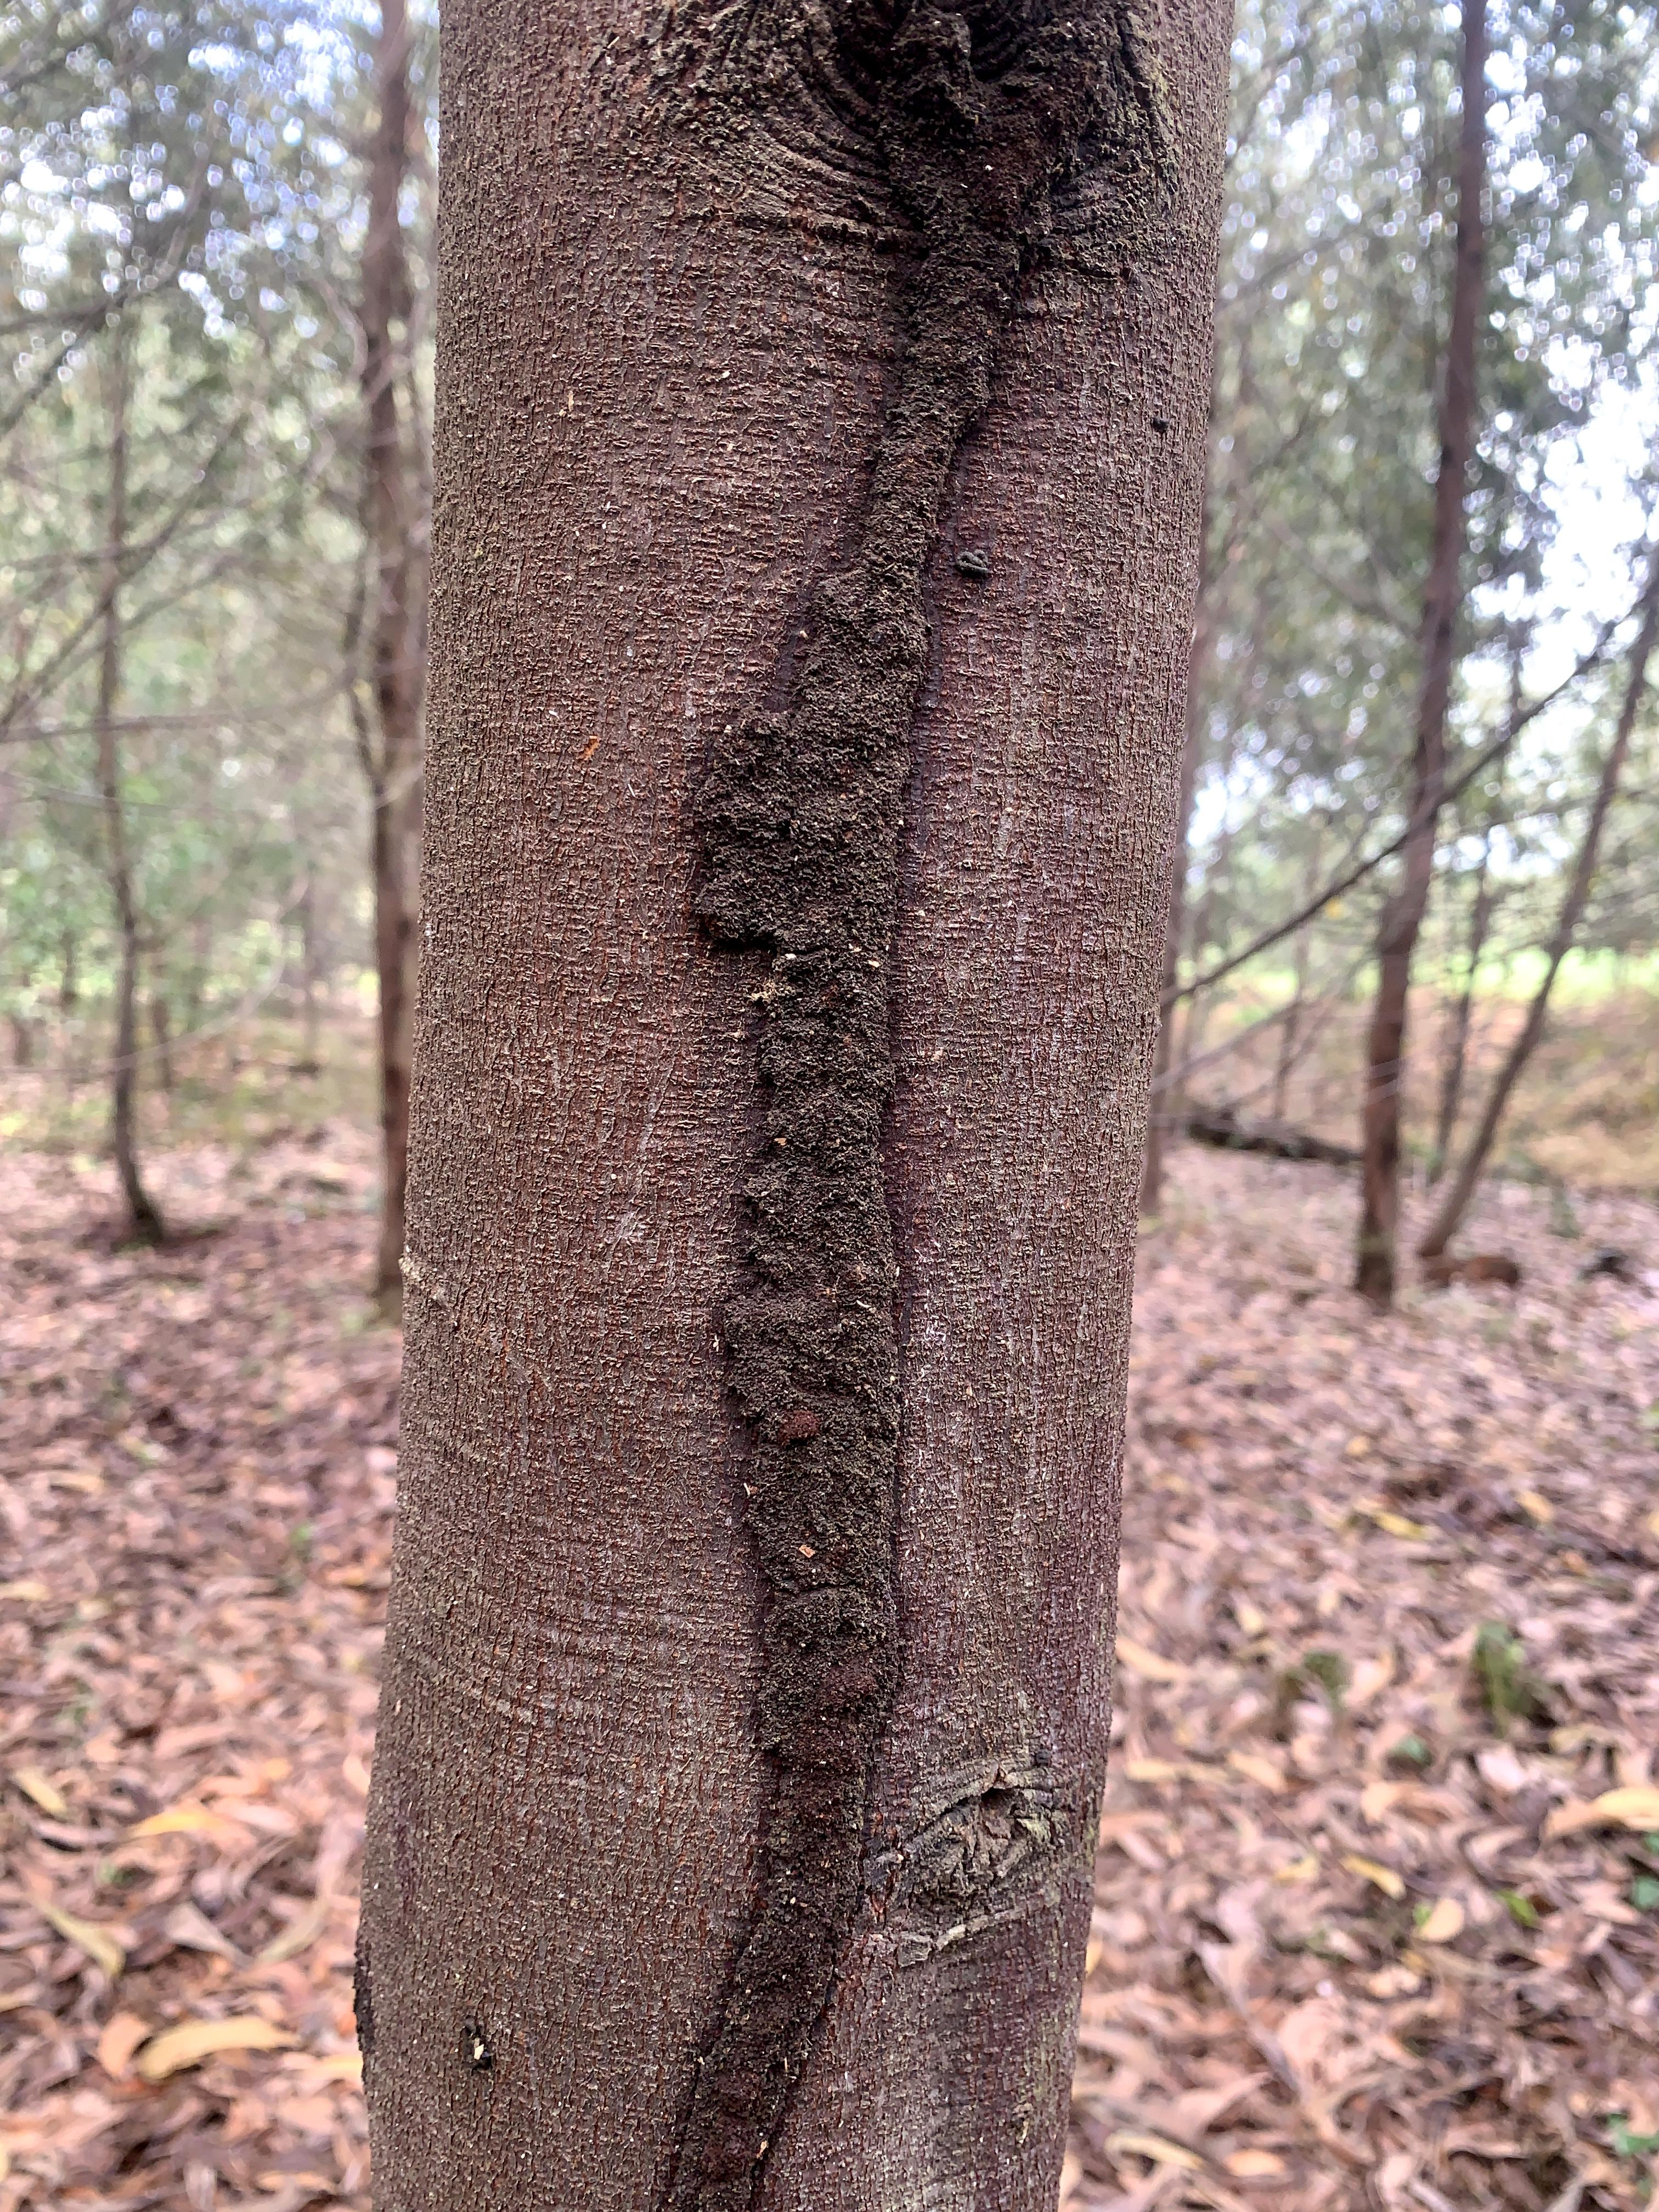Termite - Nest: (676, 2, 1007, 2212)
